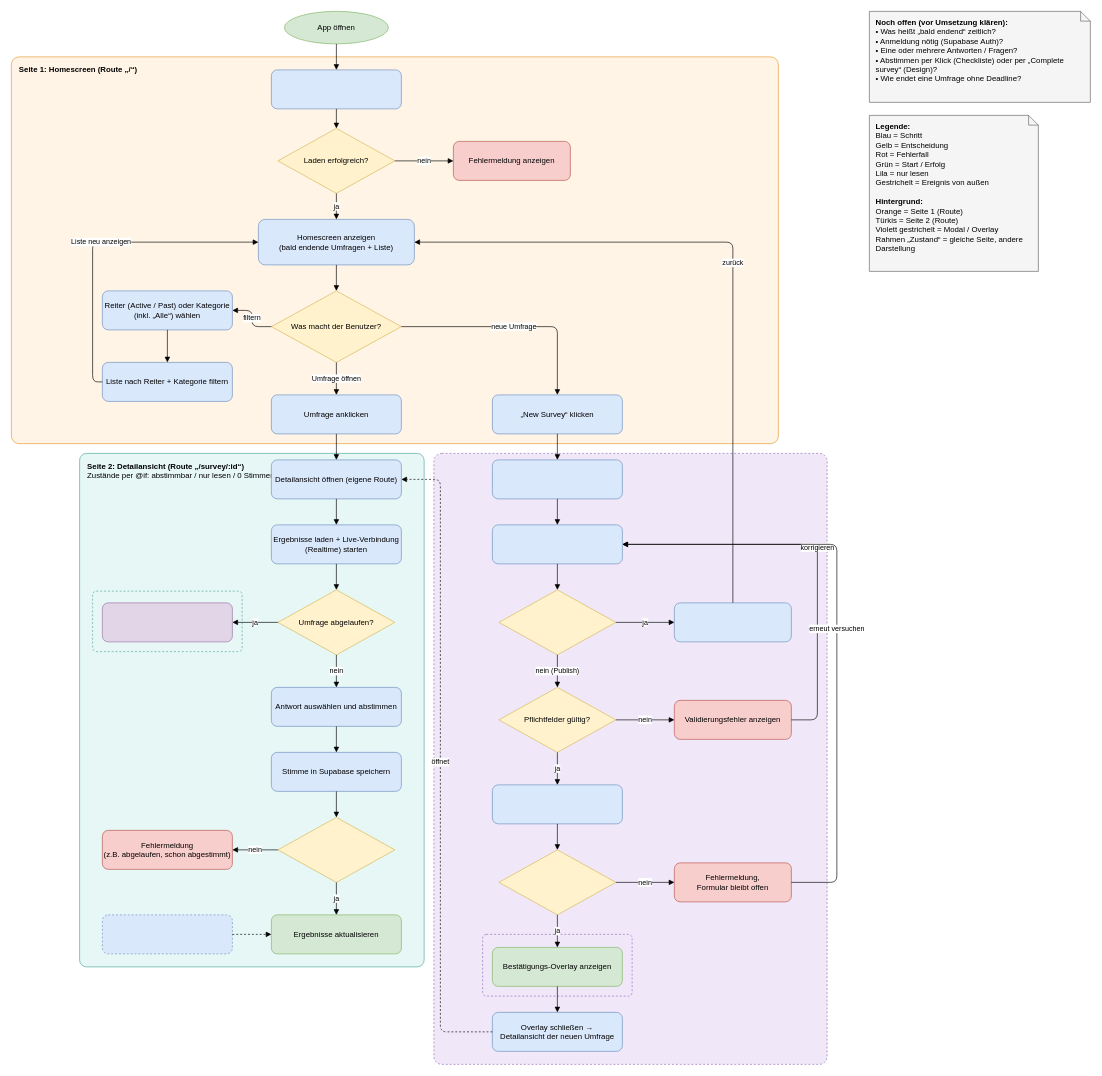
The diagram is 1102 pixels wide and 1076 high, and some of its shapes have lost their labels. Here are the shapes that lost their labels. From the top down, the box of each, then its label:
(271, 69, 401, 109): Umfragen aus Supabase laden
(492, 459, 622, 499): Modal öffnen (Overlay, keine Route)
(492, 524, 622, 564): Formular ausfüllen
(92, 591, 242, 652): Zustand
(102, 602, 232, 642): Abstimmung deaktiviert, nur Ergebnisse sichtbar
(498, 589, 616, 655): Abbrechen?
(674, 602, 791, 642): Modal schließen
(433, 453, 827, 1064): Modal „Create new survey“ Overlay über Seite 1, keine Route
(492, 784, 622, 824): Umfrage speichern (Button währenddessen gesperrt)
(277, 817, 395, 882): Von Datenbank akzeptiert?
(498, 849, 616, 915): Speichern erfolgreich?
(102, 914, 232, 954): Stimme aus anderem Browser (Realtime-Ereignis)
(482, 934, 632, 996): eigenes Overlay
